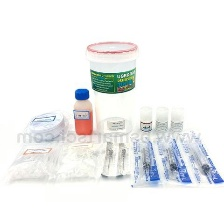insecticide: (69, 85, 96, 139)
plastic_box: (82, 38, 143, 139)
